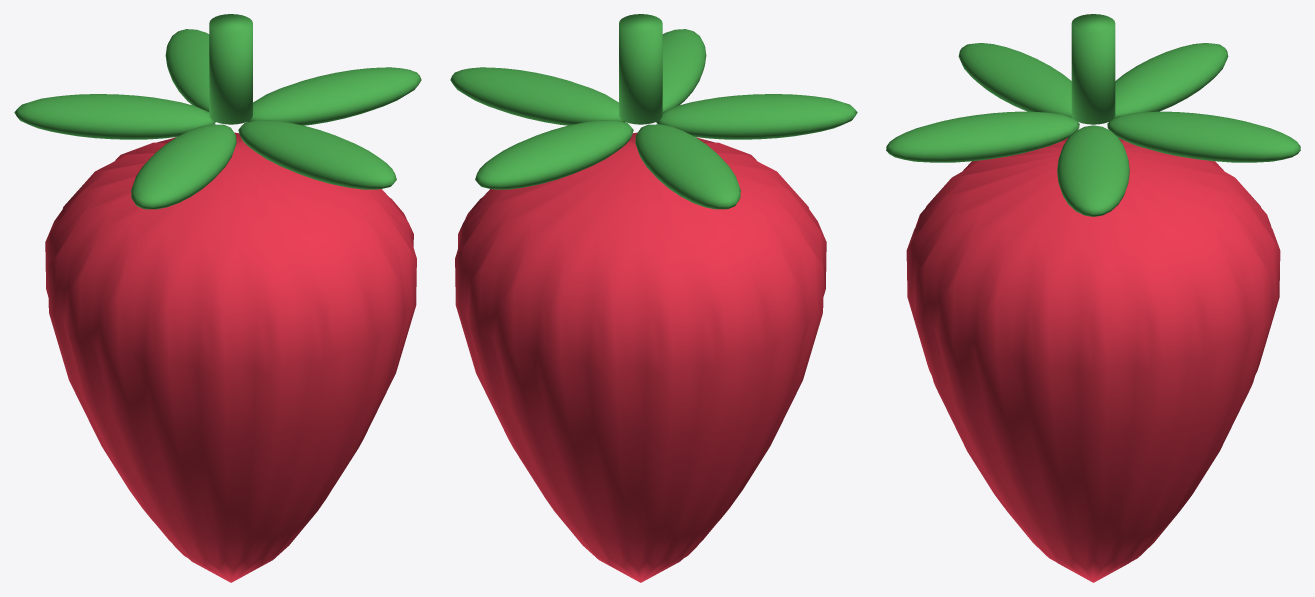
File: Strawberry.fbx
3 renders of one model, left to right at view 1: azimuth 30°, elevation 25°; view 2: azimuth 150°, elevation 25°; view 3: azimuth 270°, elevation 25°, orthographic.
Parts seen in each view (by area): view 1: Strawberry; view 2: Strawberry; view 3: Strawberry.
Boxes of the visible parts, x1,y1,x2,y2 form: Strawberry: (14,14,421,582); Strawberry: (450,14,857,582); Strawberry: (886,14,1300,582).
Size of the model in its own units: 0.5571 by 0.8498 by 0.5706.
